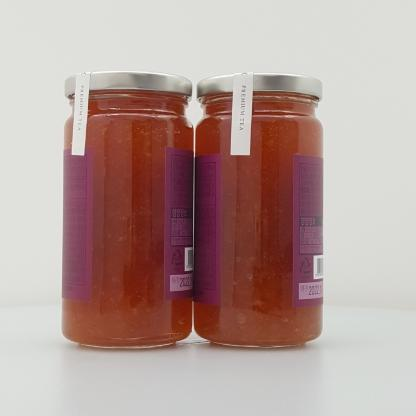---------------400G: (61, 70, 194, 350), (194, 72, 324, 348)
